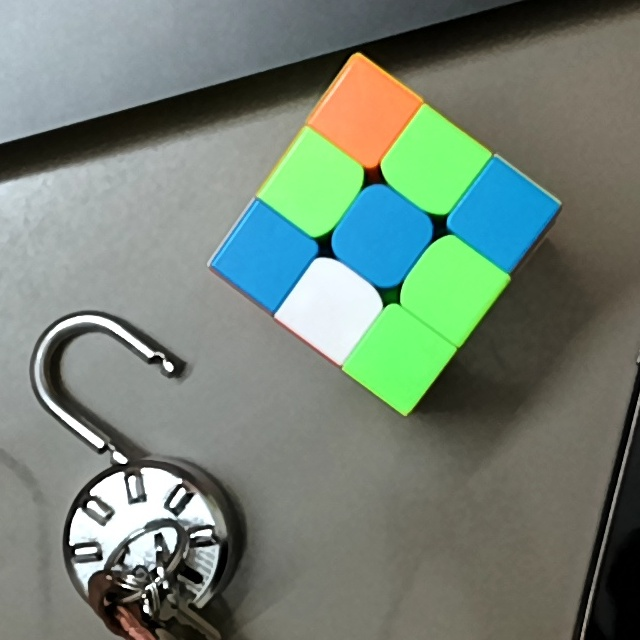tile: (355, 204, 414, 266), (333, 83, 394, 142), (426, 254, 480, 317), (473, 189, 530, 247), (283, 156, 344, 209), (407, 132, 460, 192), (305, 278, 360, 334), (371, 332, 425, 388), (242, 227, 294, 280)
